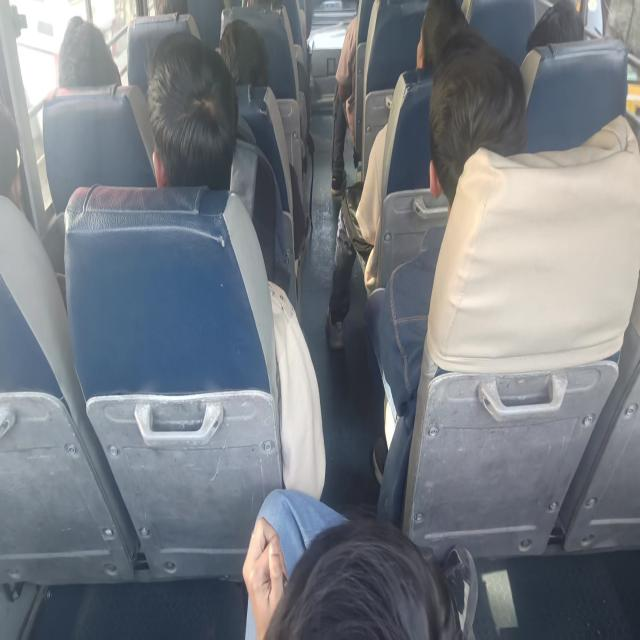person: (146, 30, 326, 500), (363, 29, 528, 506), (324, 0, 469, 349), (242, 487, 478, 639), (146, 31, 238, 190), (331, 14, 358, 198), (57, 15, 121, 88), (416, 0, 470, 71), (218, 18, 268, 86), (526, 0, 584, 54), (0, 104, 24, 211)
